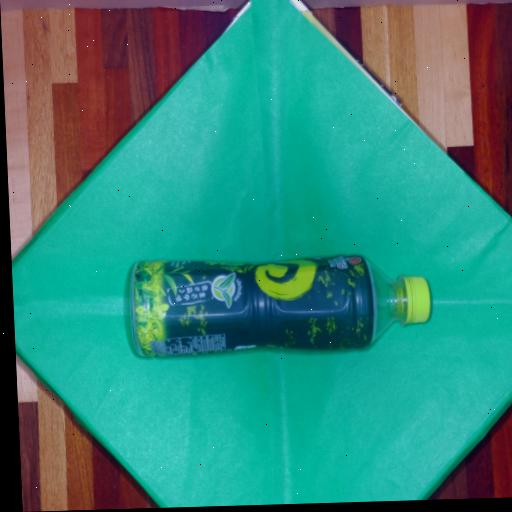bottle: (130, 256, 430, 356)
